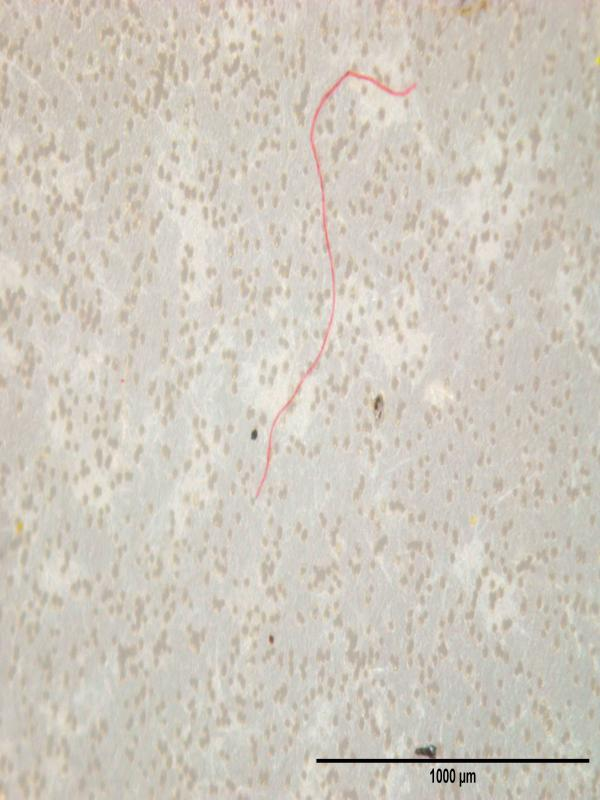microplastic: (1, 1, 598, 797), (253, 68, 417, 501)
